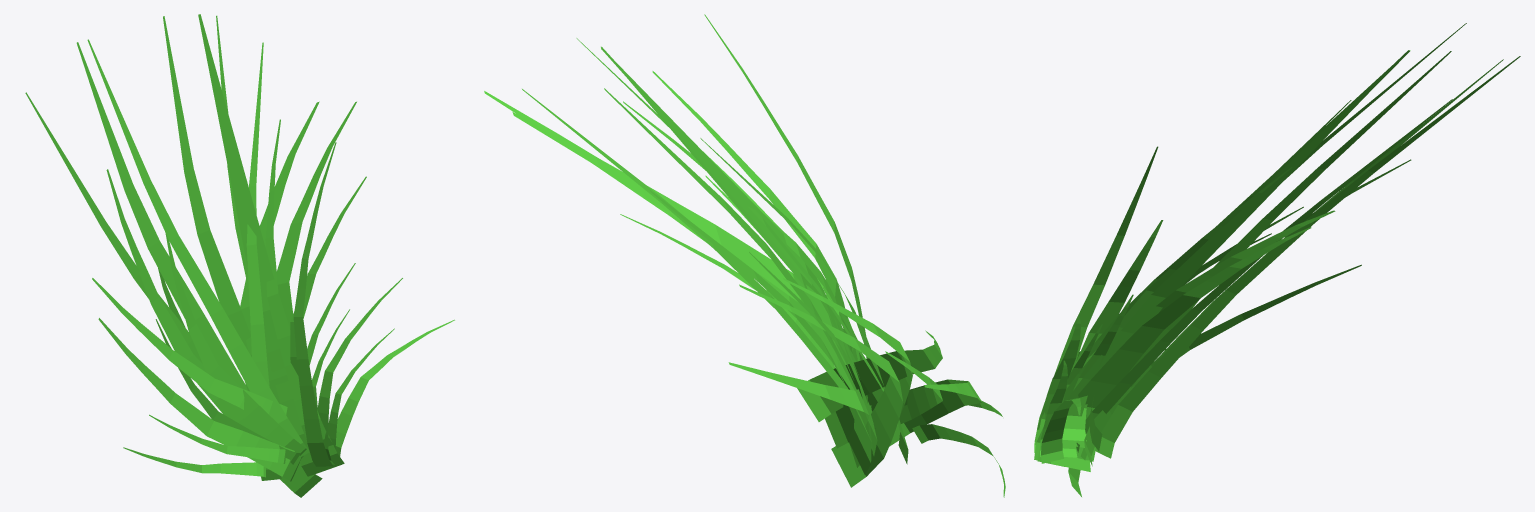
File: grass2.fbx
3 views of the same model, side by side, from view 1: azimuth 30°, elevation 25°; view 2: azimuth 150°, elevation 25°; view 3: azimuth 270°, elevation 25° (orthographic). The views are drawn at different scales.
Parts seen in each view (by area): view 1: Plane.001; view 2: Plane.001; view 3: Plane.001.
Boxes of the visible parts, x1,y1,x2,y2 form: Plane.001: (25, 14, 454, 497); Plane.001: (484, 14, 1005, 497); Plane.001: (1034, 23, 1520, 496).
Bounding box in the file's own units: 353 × 437 × 413.
